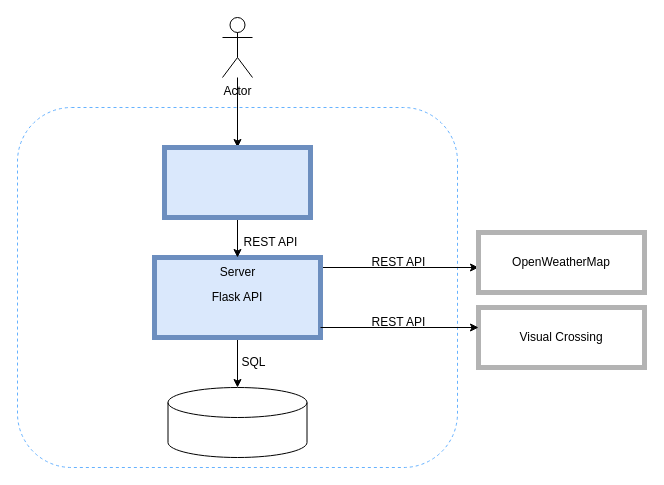
Some shapes in this 664 by 485 pixel diagram are drawn without their labels. The shapes that lost their labels are listed below. From the top down, each one's centre as x and y in pixels, then its label:
At (237,182): "React SPA".
At (237,422): "PostgreSQL".
